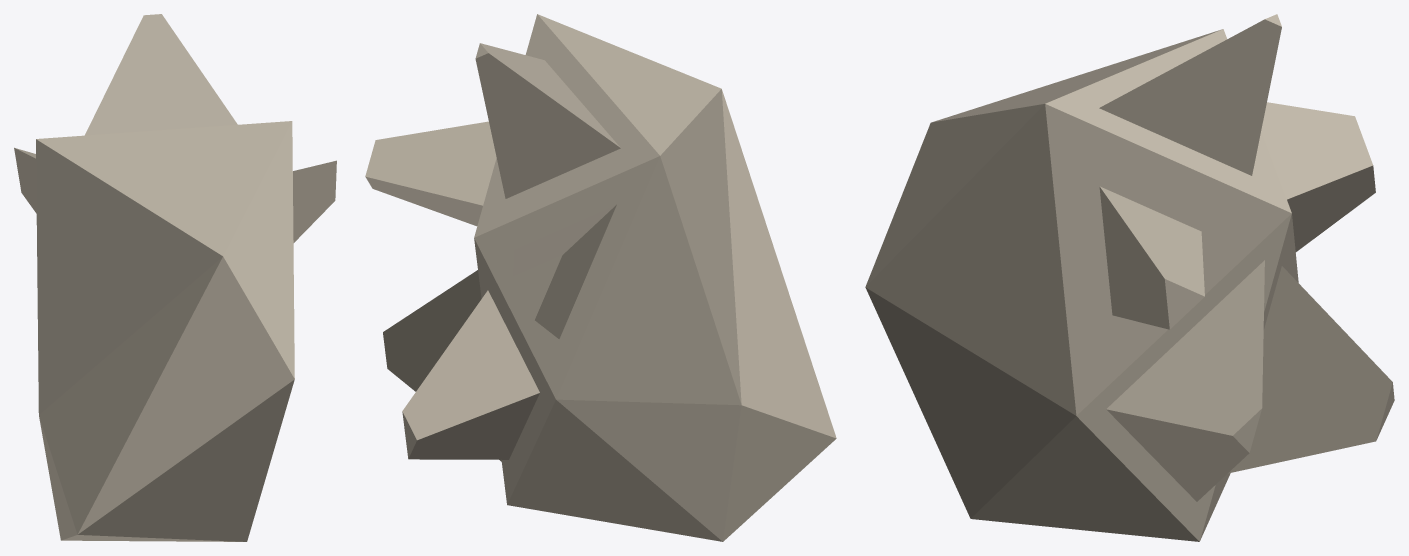
The model's file is Rock 4.fbx.
3 views of the same model, side by side, from view 1: azimuth 30°, elevation 25°; view 2: azimuth 150°, elevation 25°; view 3: azimuth 270°, elevation 25° (orthographic). The views are drawn at different scales.
Parts seen in each view (by area): view 1: Rock 4; view 2: Rock 4; view 3: Rock 4.
Part boxes in pixels (box(x1,y1,x2,y2)): Rock 4: box(14, 14, 336, 541); Rock 4: box(365, 14, 836, 541); Rock 4: box(865, 14, 1394, 541).
Size of the model in its own units: 311 by 396 by 351.
